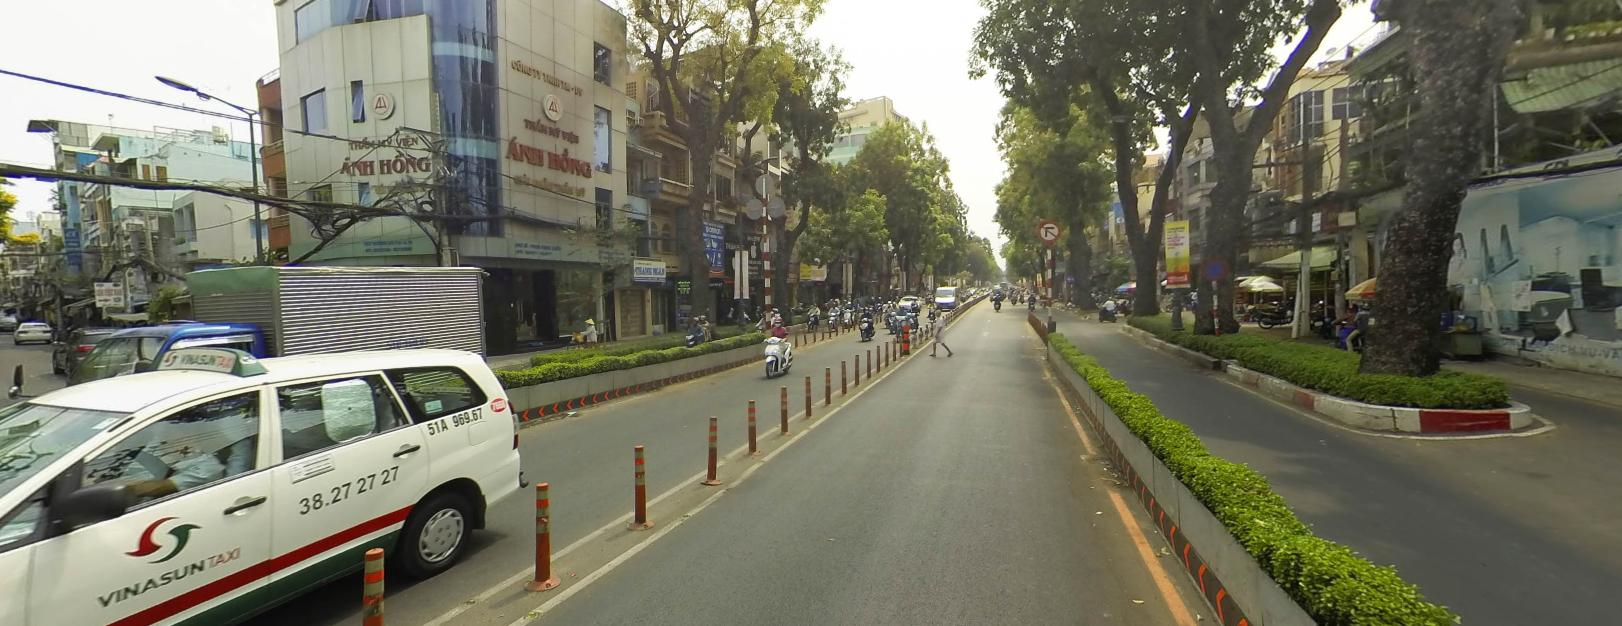Cam dung va do: (1200, 256, 1226, 279)
Cam re: (1038, 219, 1061, 240)
